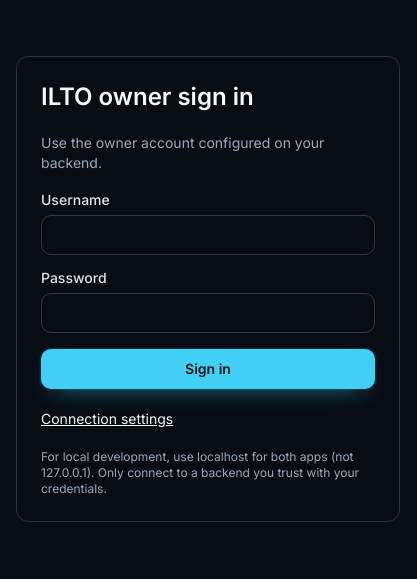
Test: owner session UI (mocked fetch, not real cookies) › does not unlock the app when login succeeds but its cookie is missing
The width and height of the screenshot is (417, 579).
expect the button "Sign in" is enabled: met, box [41,349,375,389]
In the field labelled "Username": (208, 235) [41,215,375,255], type "owner"
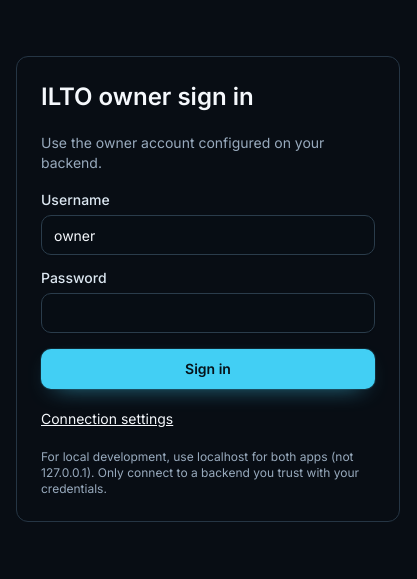
In the password field labelled "Password": (208, 313) [41,293,375,333], type "password"
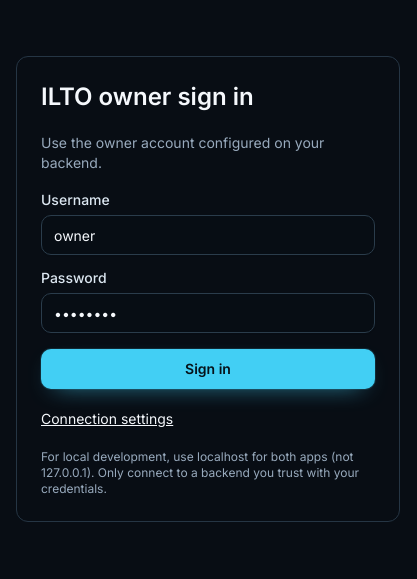
Click the button "Sign in": click(208, 369) [41,349,375,389]
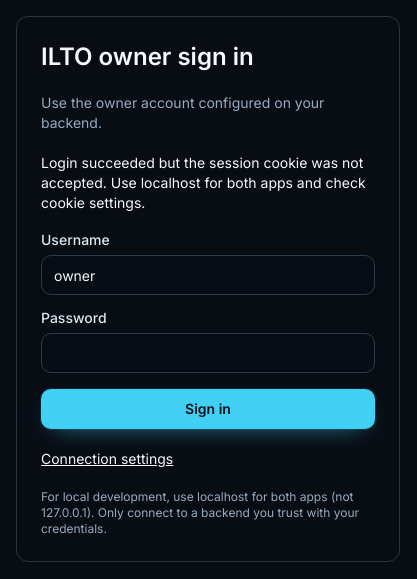
expect the text "session cookie was not accepted" is shown: met, box [41,154,366,211]
